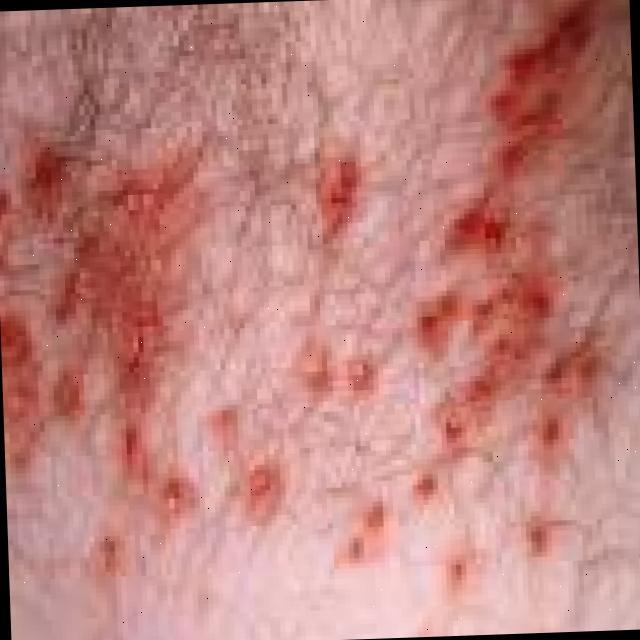Shingles: (22, 19, 589, 623)
